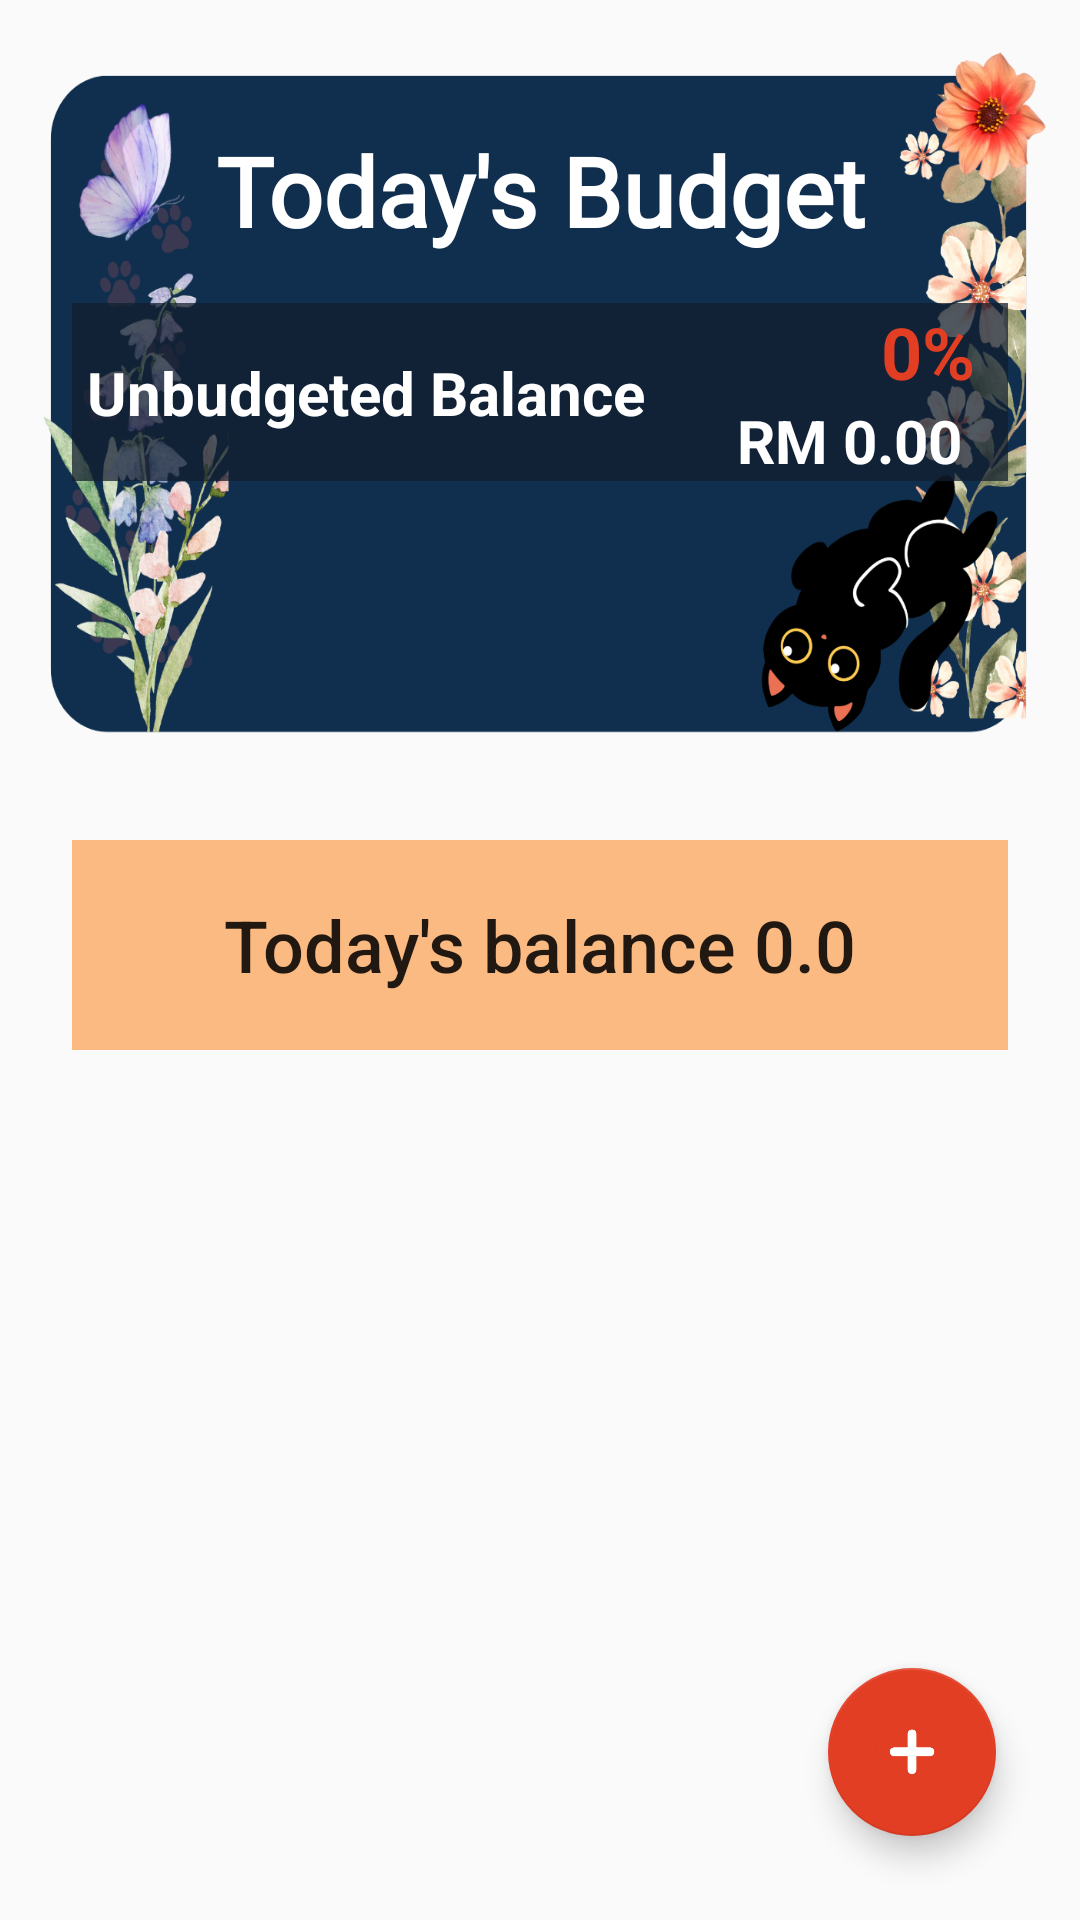

Named icons in this screenshot (1080 × 1920) and their bounding boxes, {"x1": x1, "y1": y1, "x2": x2, "y2": y2}:
add: {"x1": 828, "y1": 1668, "x2": 996, "y2": 1836}
